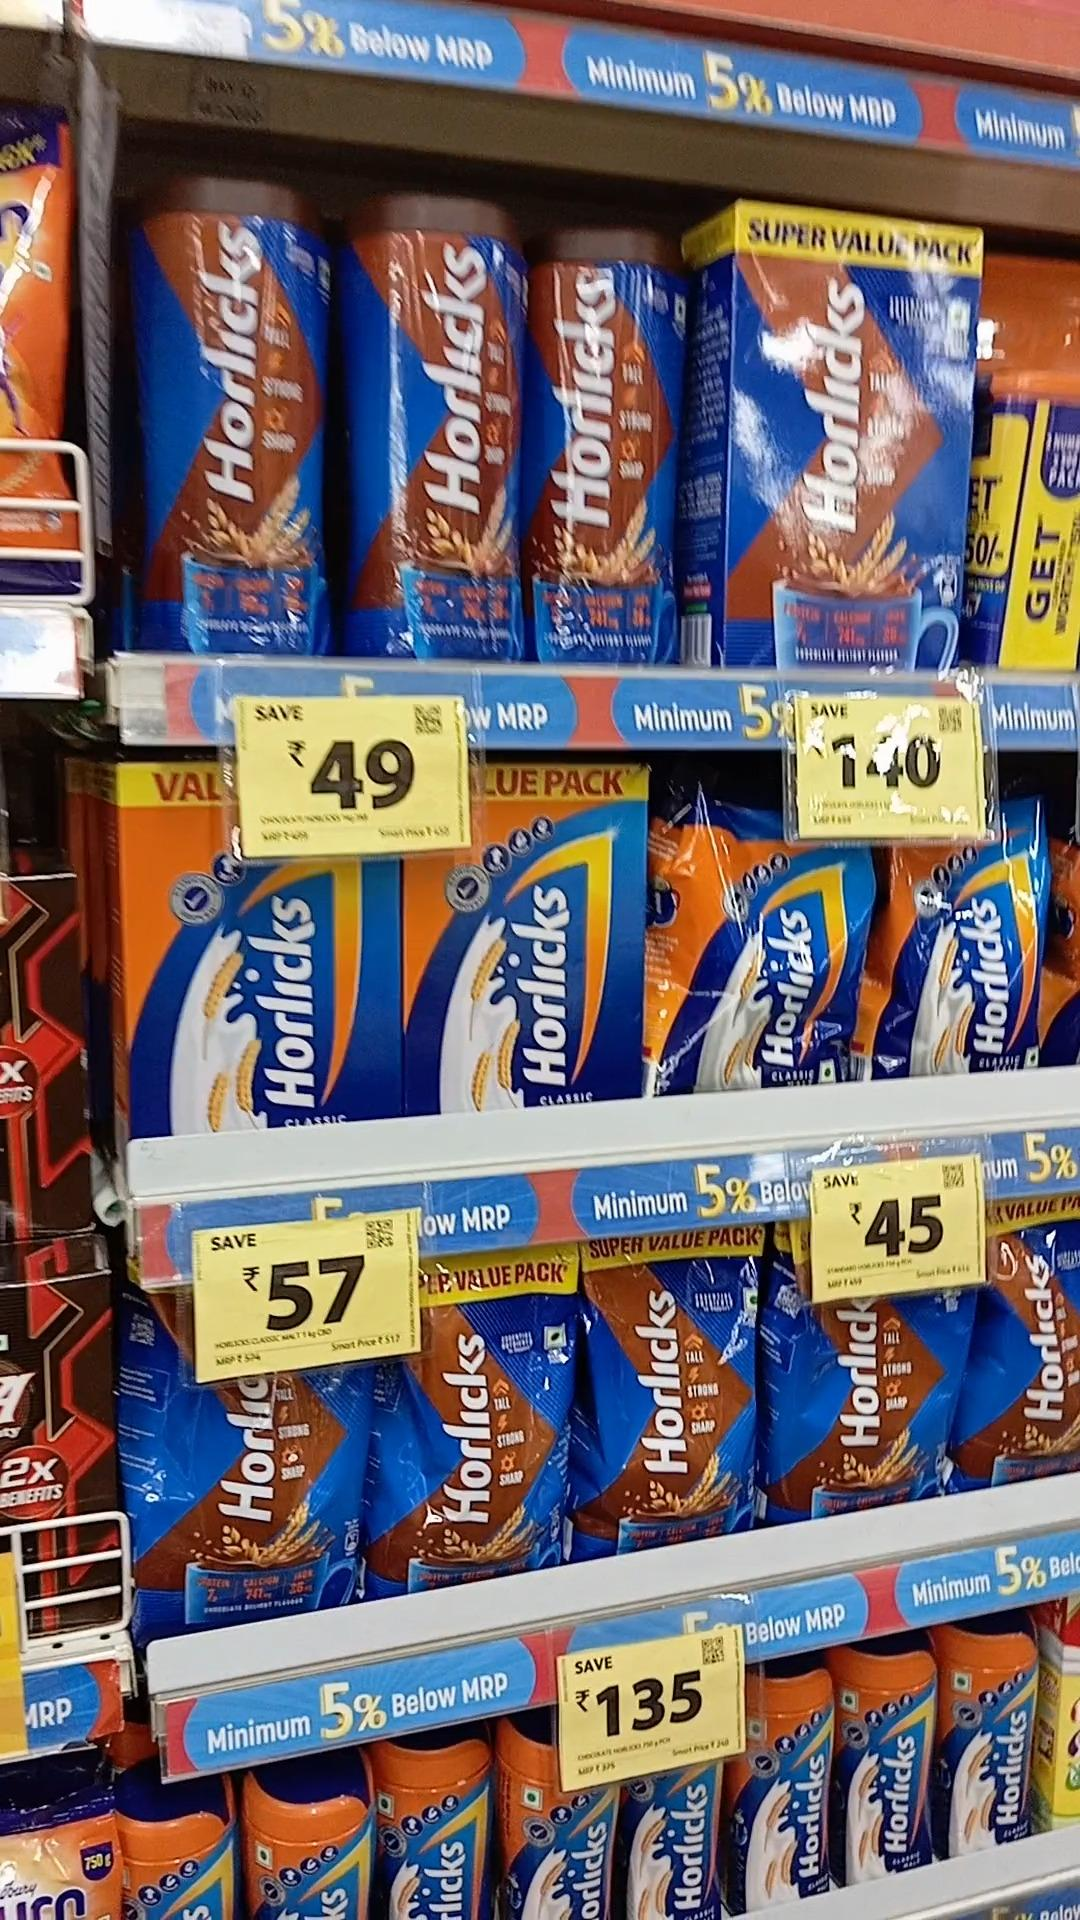HORLICK_CHOCOLATE_1_KG_JAR: (140, 173, 332, 651), (347, 196, 522, 659), (539, 229, 682, 667)
HORLICK_CHOCOLATE_1_KG_PACK: (729, 210, 981, 667)
HORLICK_CHOCOLATE_750_G_POUCH: (135, 1379, 372, 1598), (421, 1254, 568, 1584), (588, 1242, 754, 1532), (769, 1295, 961, 1499)
HORLICK_CLASSIC_MALT_500_G_JAR: (839, 1647, 934, 1866), (940, 1627, 1033, 1844), (750, 1671, 828, 1904)
HORLICK_CLASSIC_MALT_750_G_POUCH: (658, 820, 861, 1087), (880, 849, 1042, 1062)
